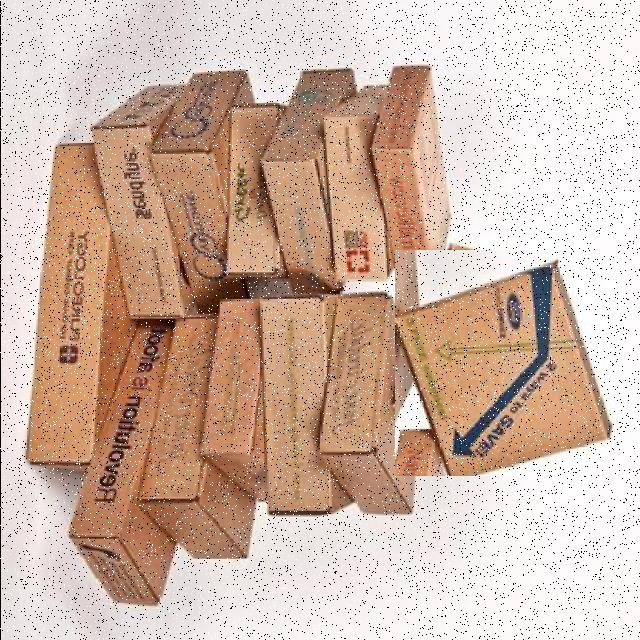normal: (394, 250, 620, 476)
